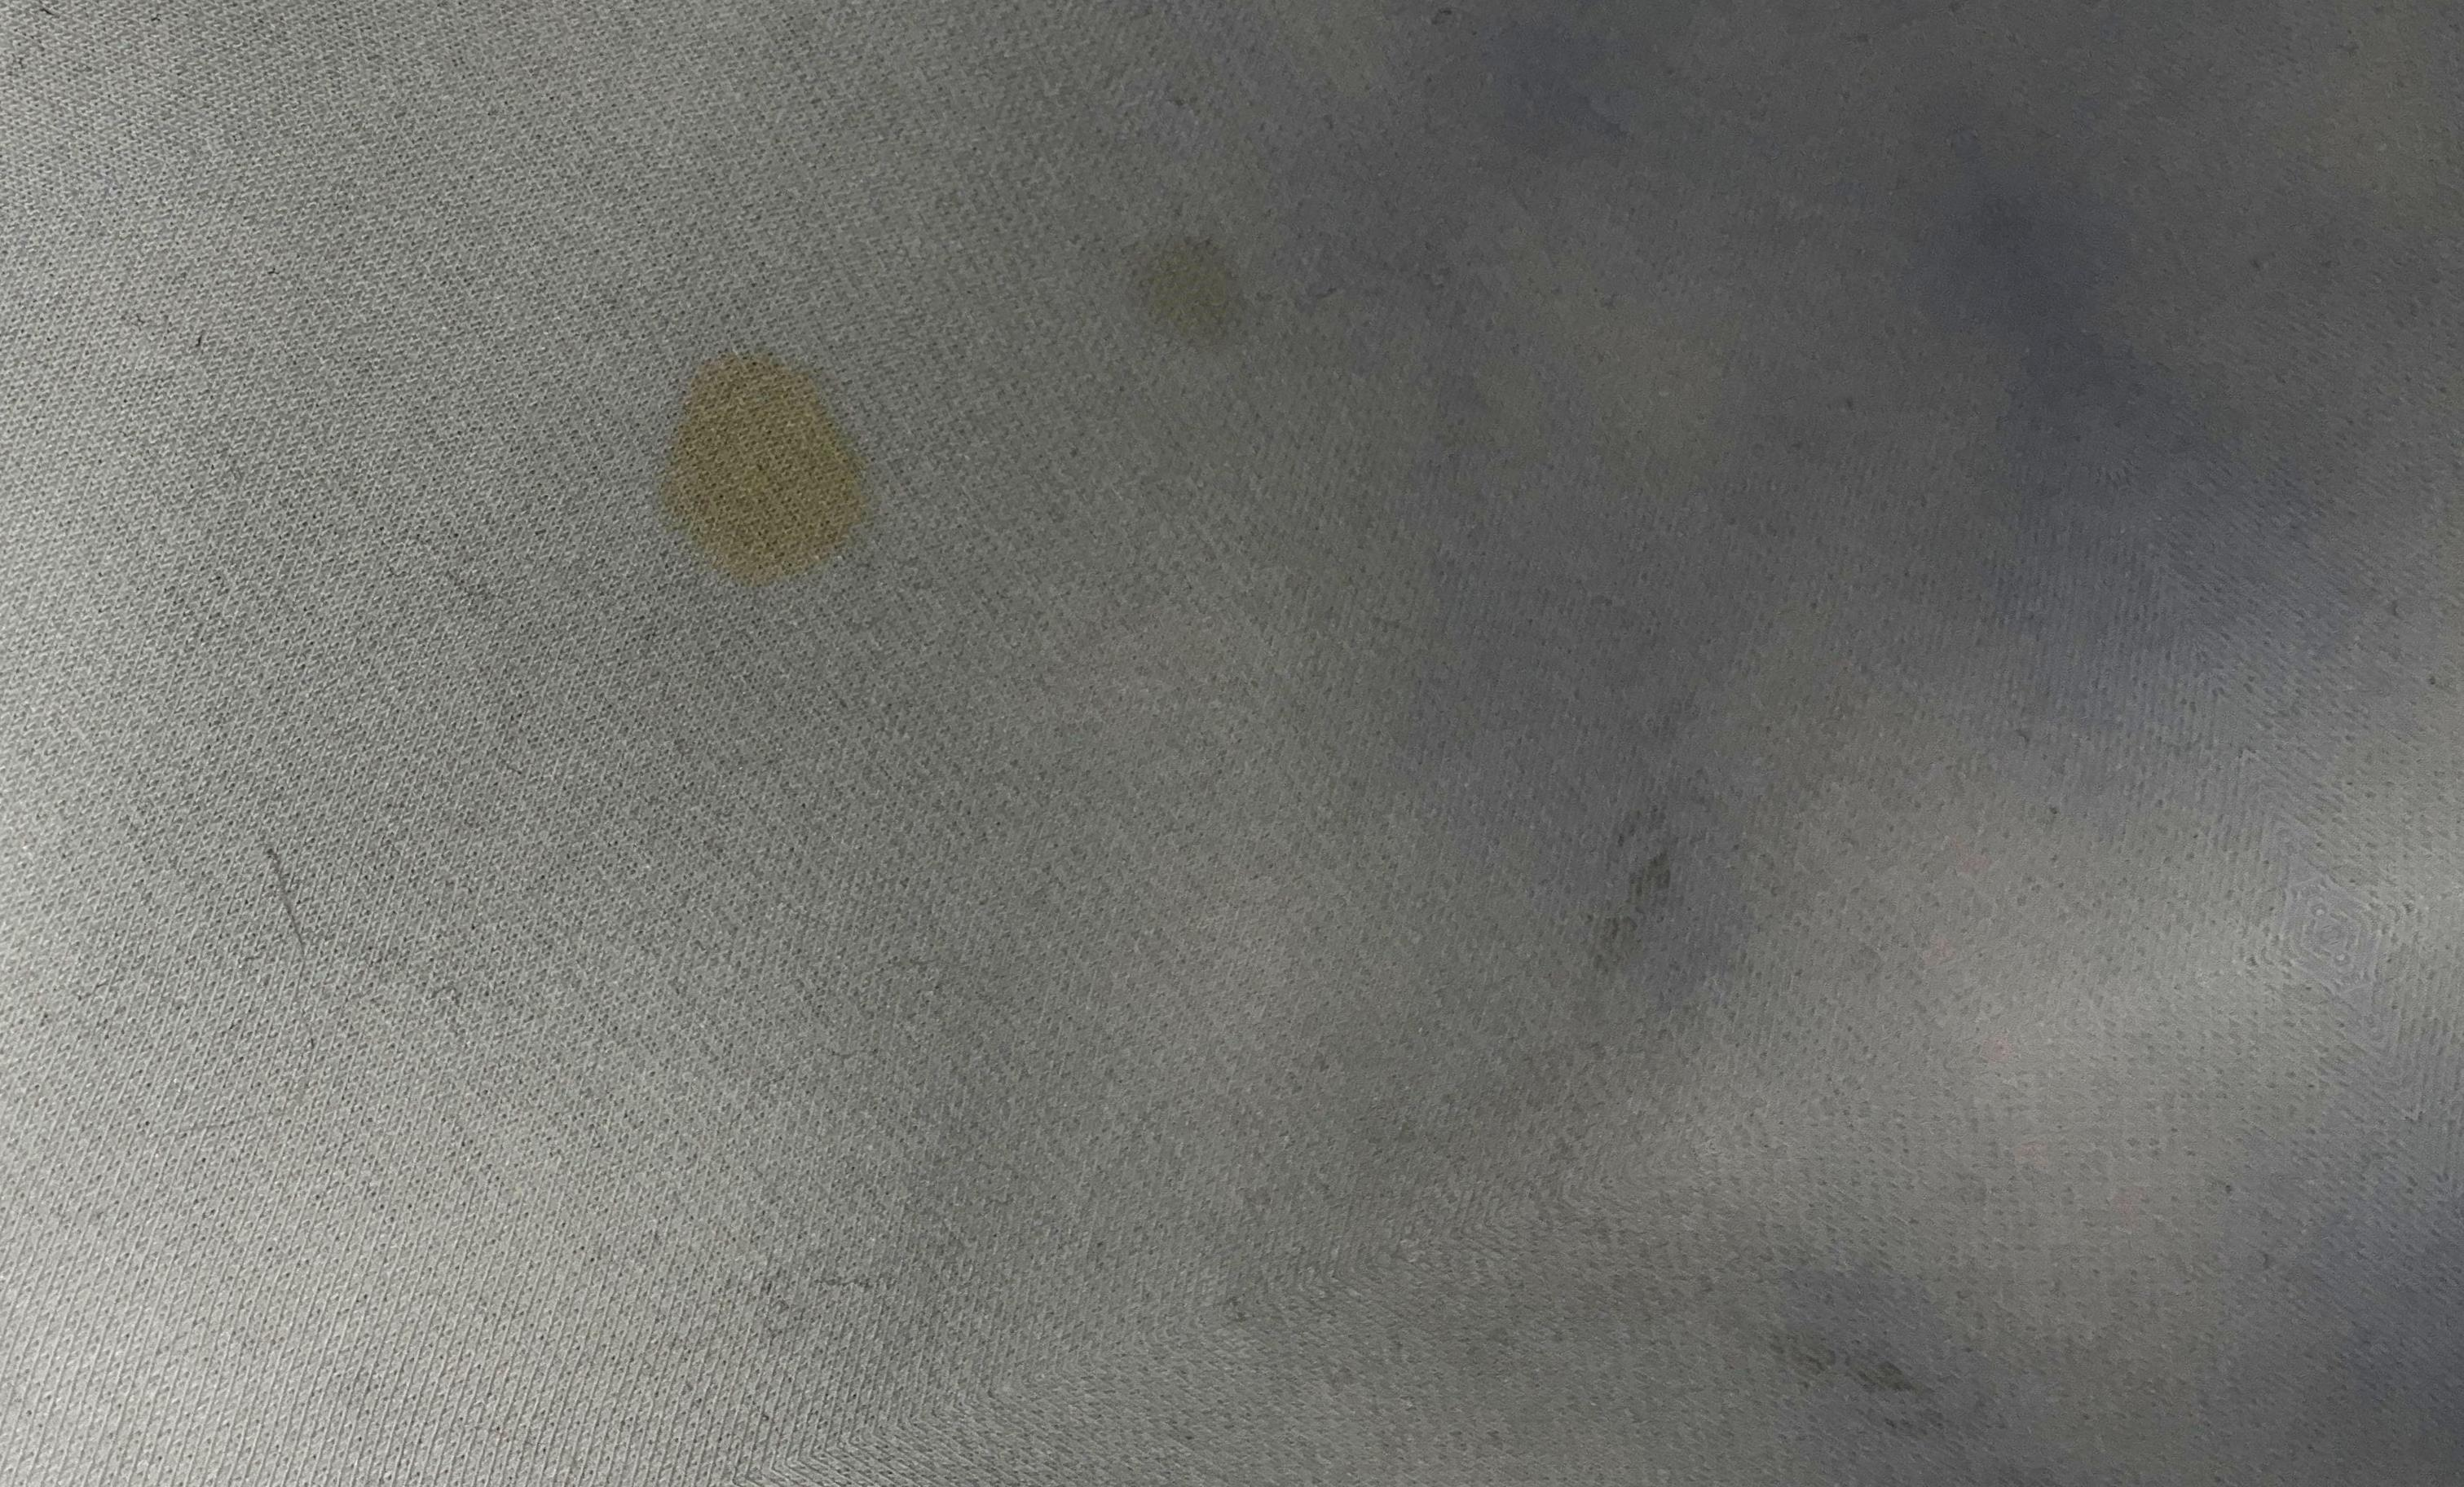stain: (644, 340, 892, 597), (1119, 213, 1264, 364)
